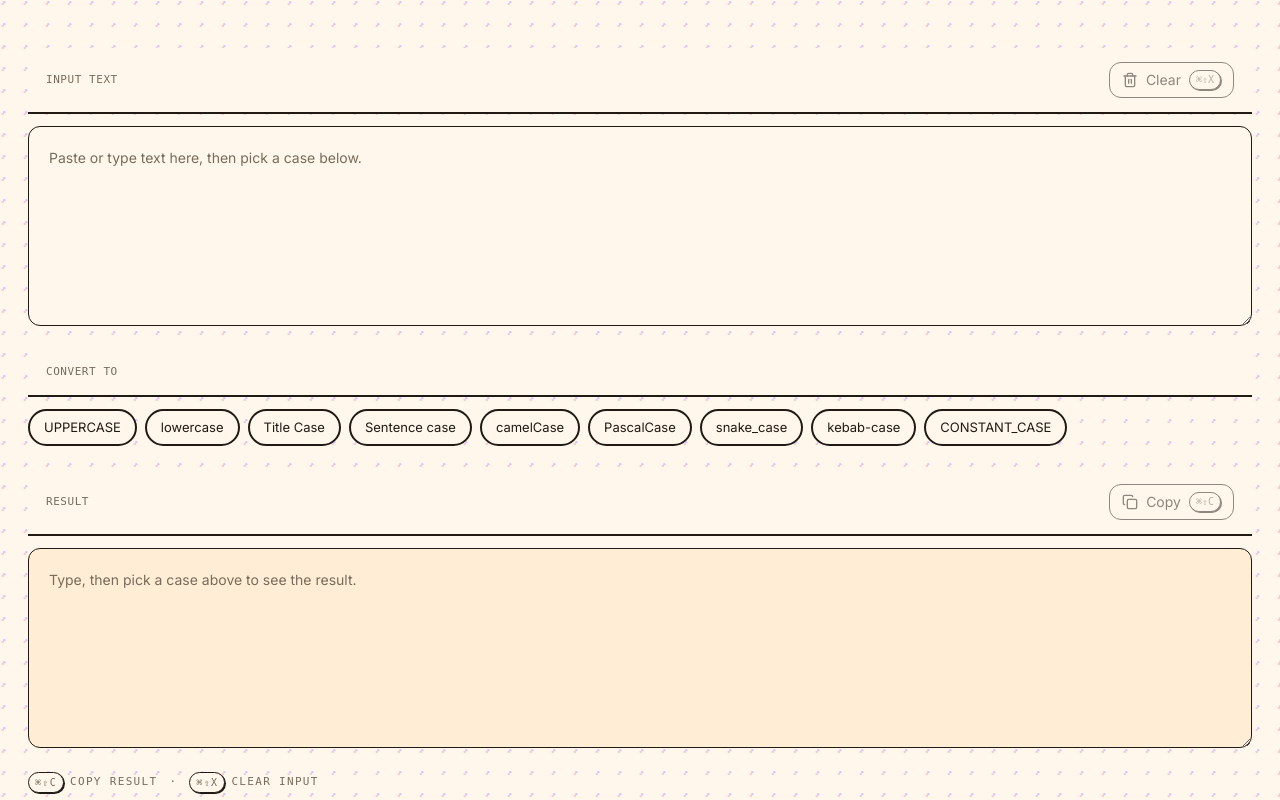
Test case: CaseConverterRoute › lowercase chip converts correctly
In the text box with placeholder "Paste or type text here, then pick a case below.": (640, 226) [28,126,1252,326], type "HELLO WORLD"
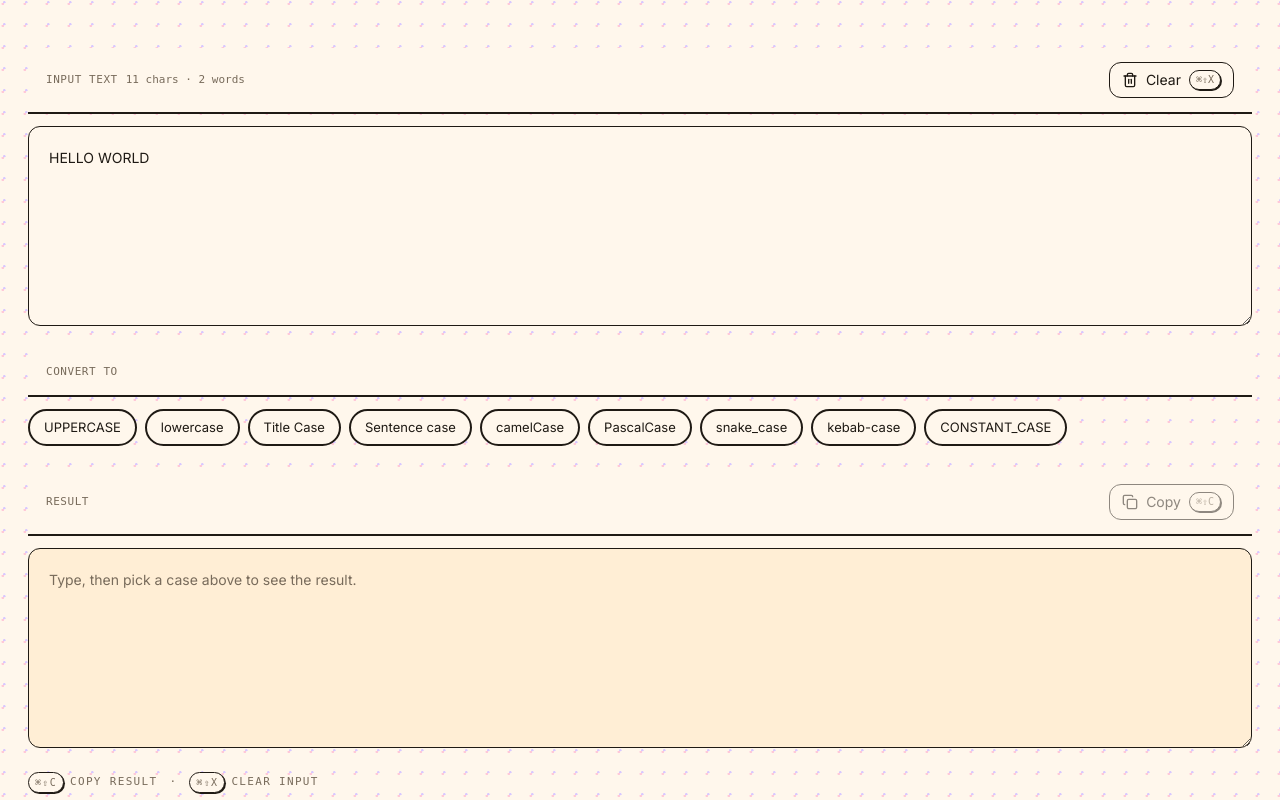
Click the button "lowercase": (192, 427) [145,408,240,446]
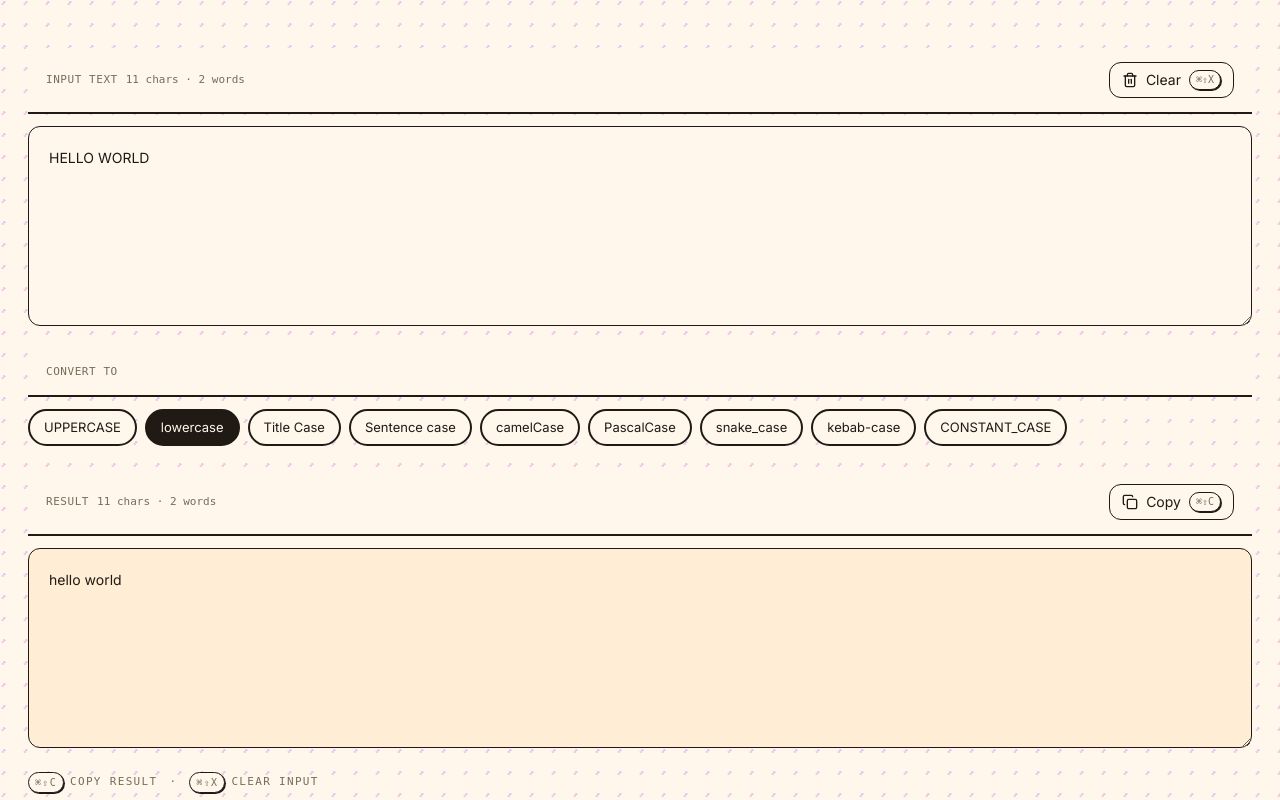
Now the text box with placeholder "Type on the left to see the result here." holds "hello world", box [28,548,1252,748]
